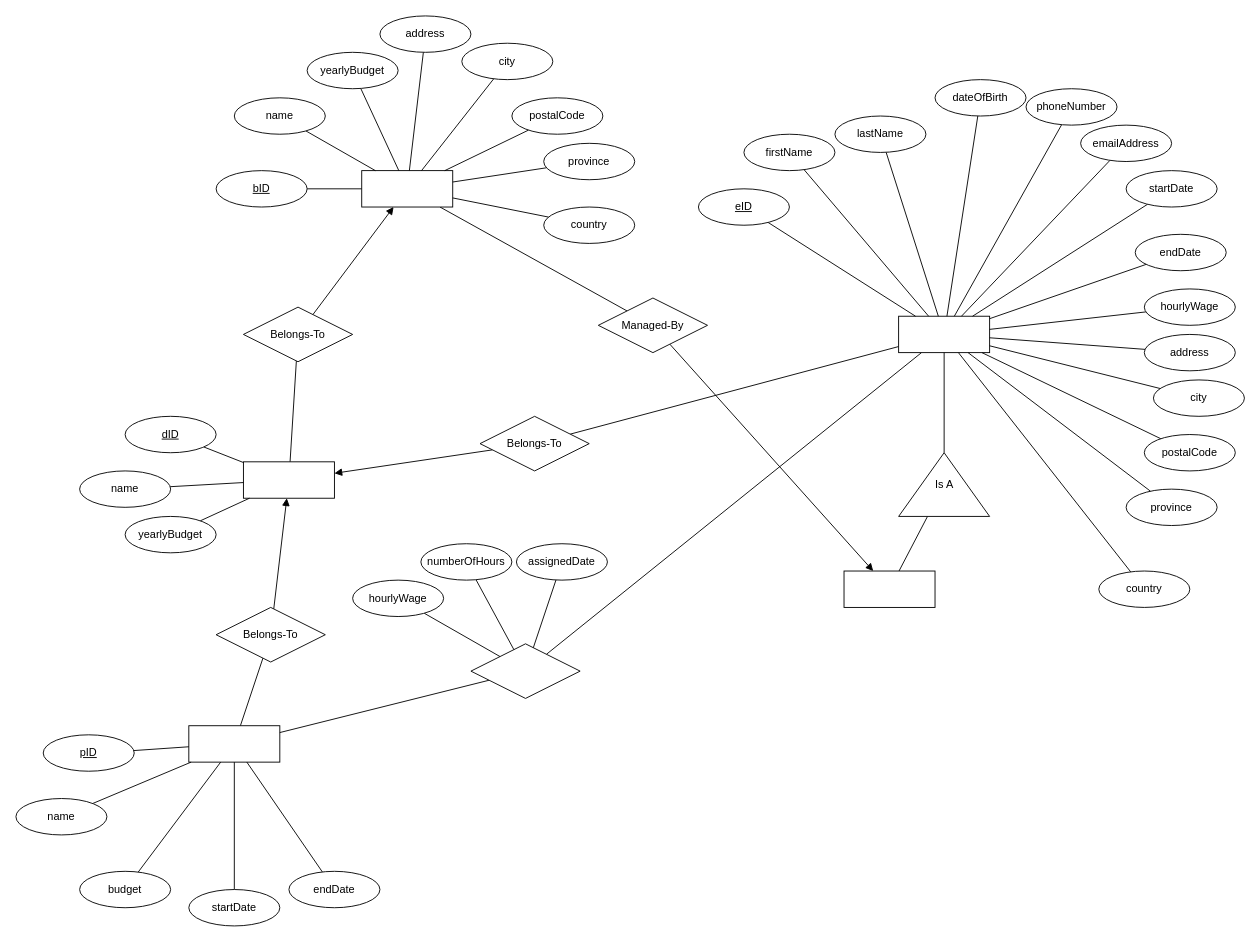
The diagram is 1260 pixels wide and 942 high, and some of its shapes have lost their labels. The box of each missing label's shape, as (x1, y1, x2, y2) in pixels:
Assigned-To: (470, 643, 580, 698)
Branches: (361, 170, 453, 207)
Departments: (243, 461, 334, 498)
Employees: (898, 315, 990, 353)
Manager: (843, 570, 935, 607)
Projects: (188, 725, 280, 762)
